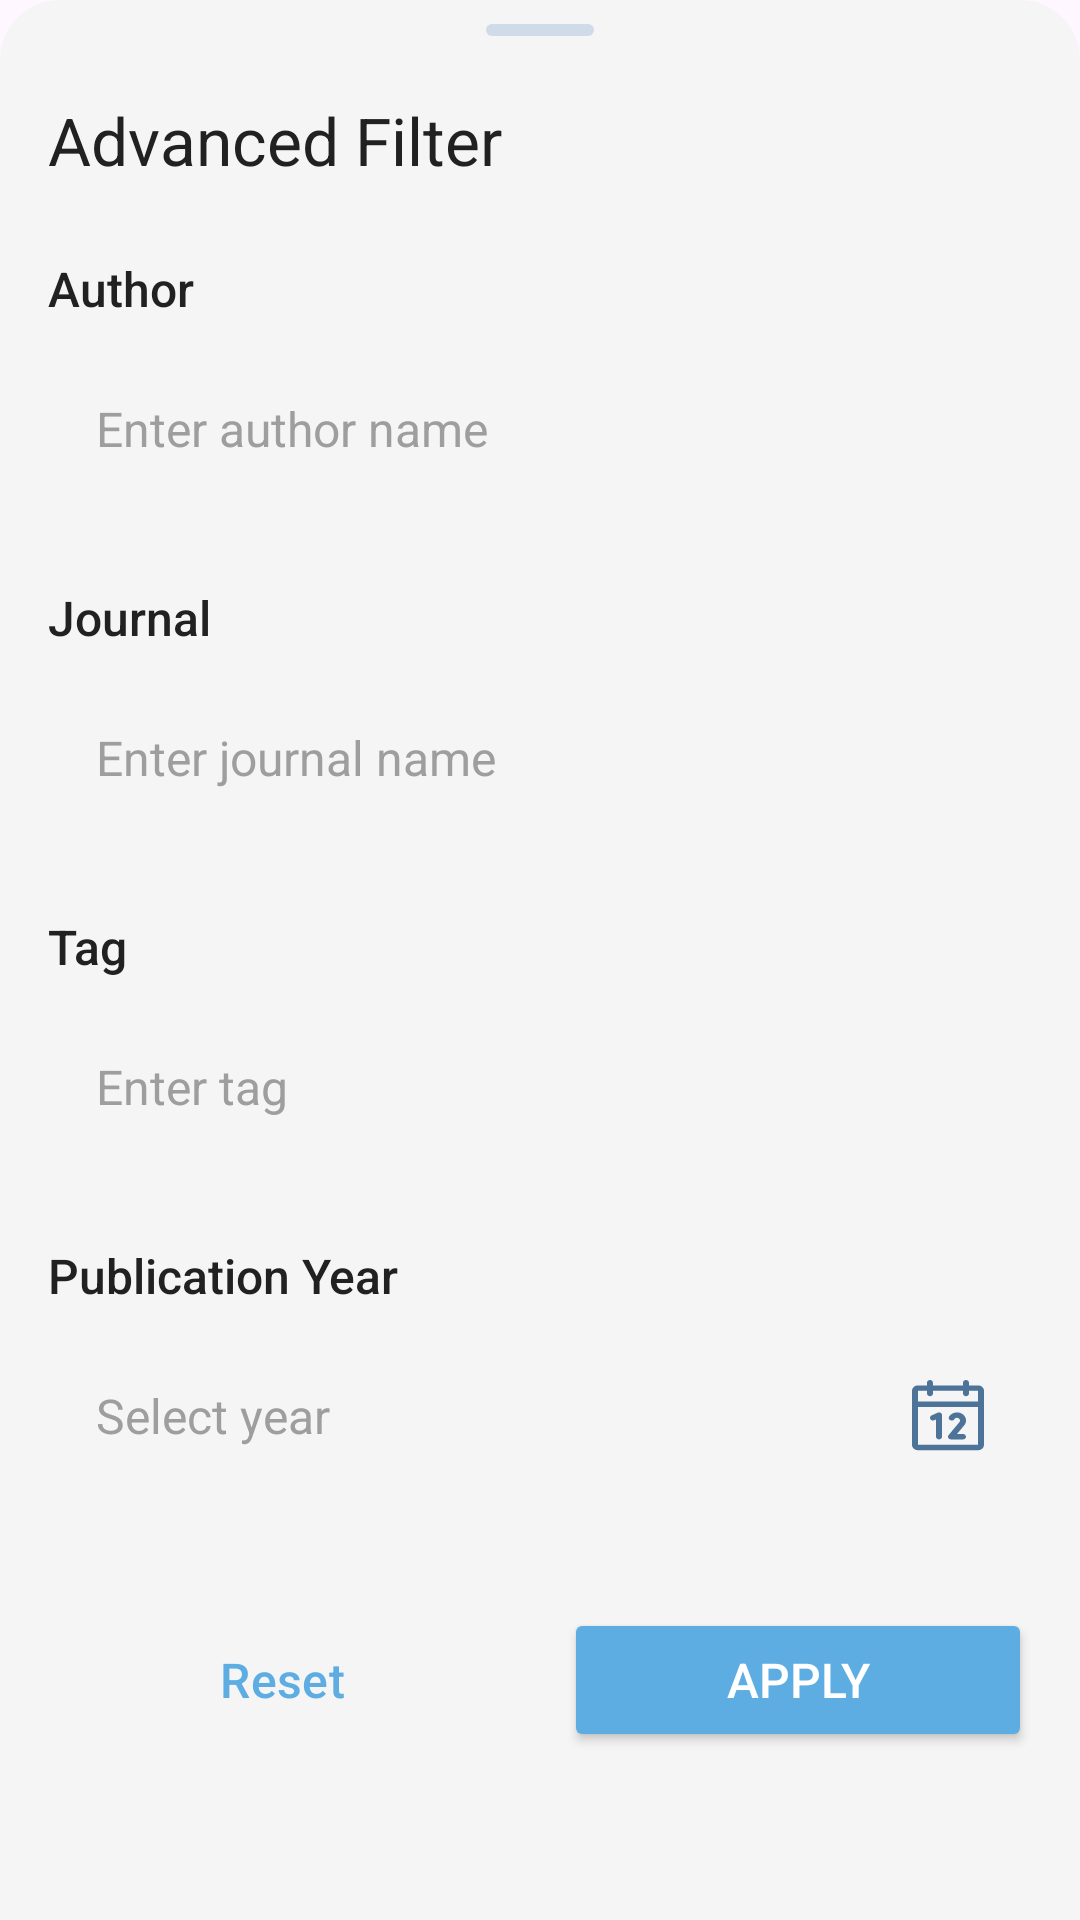

Point at icon controls on the screen. Image size 1080px×1920px, points as (x=x, y=y).
Calendar icon: (x=948, y=1415)
